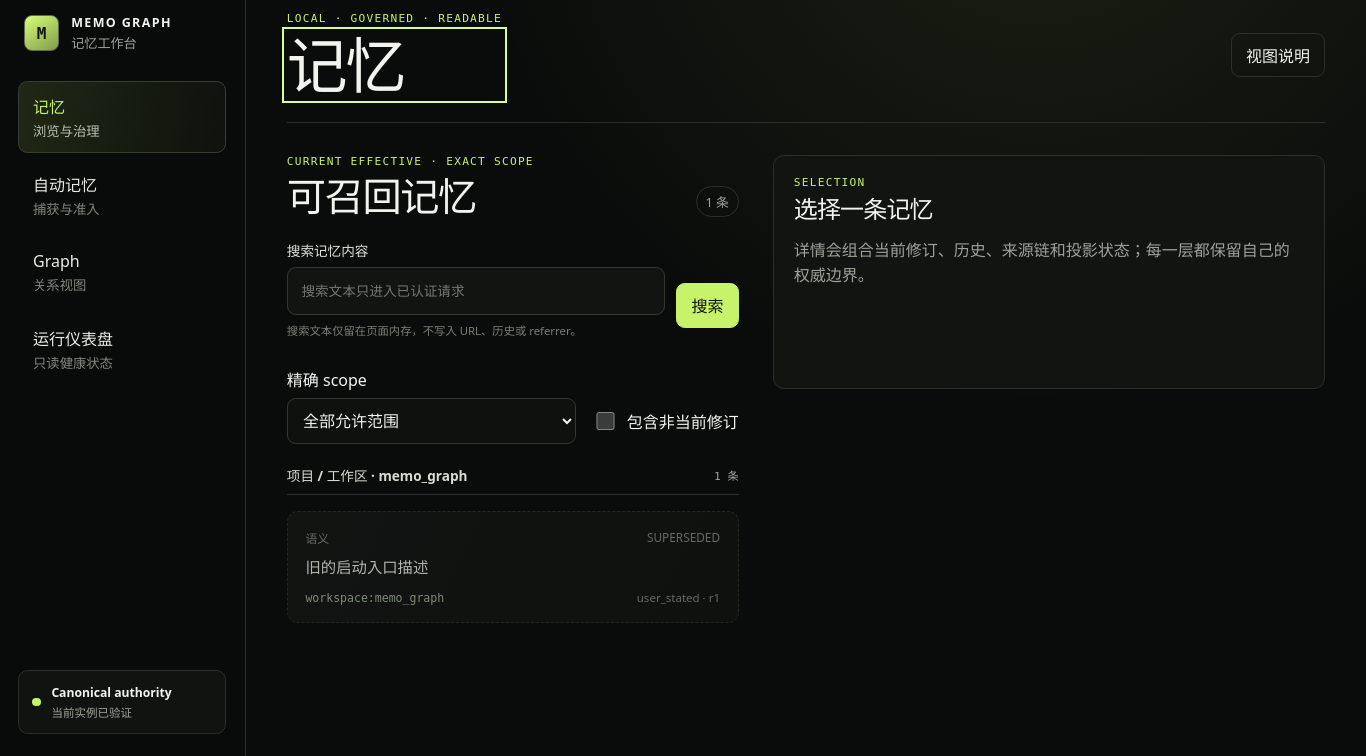
Test case: governed memory browser › opens an explicit historical revision as read-only authority
Click the button "语义 SUPERSEDED 旧的启动入口描述 workspace:memo_graph user_stated · r1". click: (683, 536)
box: [288, 512, 738, 622]
(page scrolled)
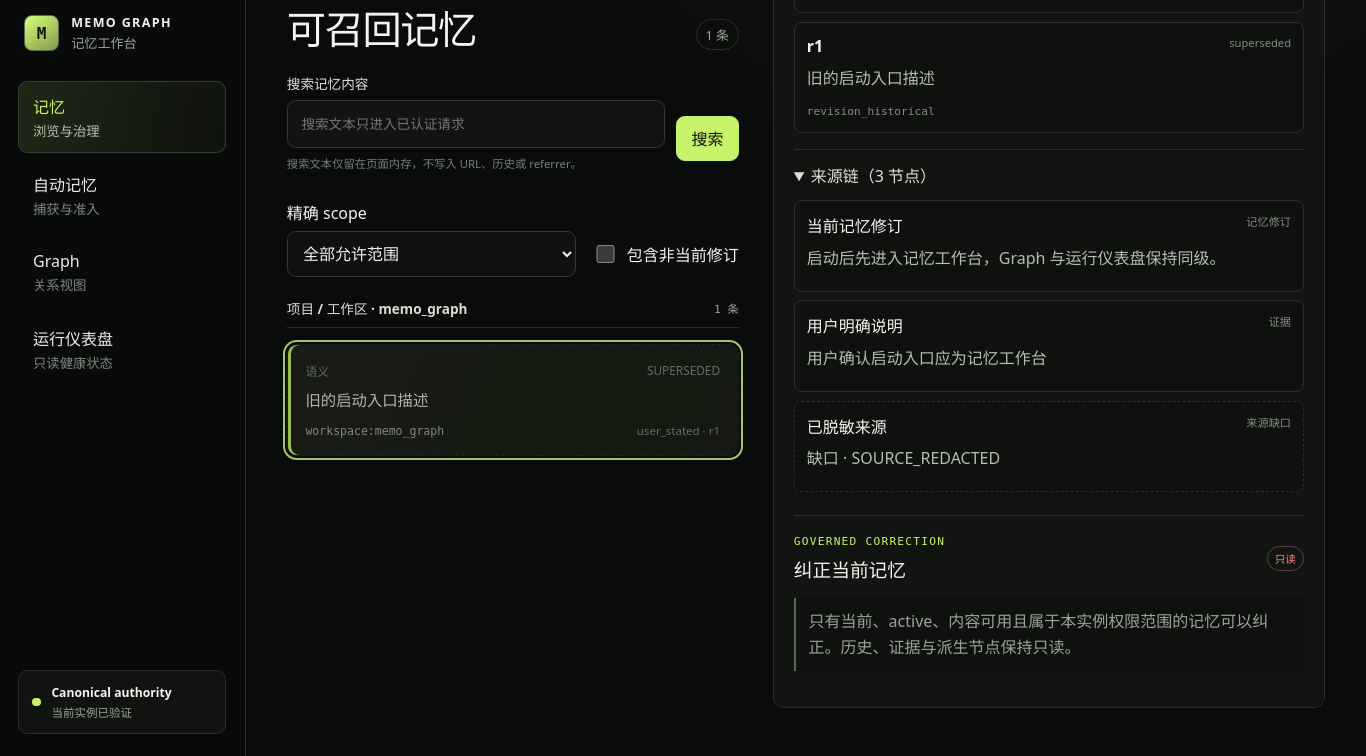
expect the text "只有当前、active、内容可用且属于本实例权限范围的记忆可以纠正。历史、证据与派生节点保持只读。" is shown: met, box [794, 598, 1304, 671]
